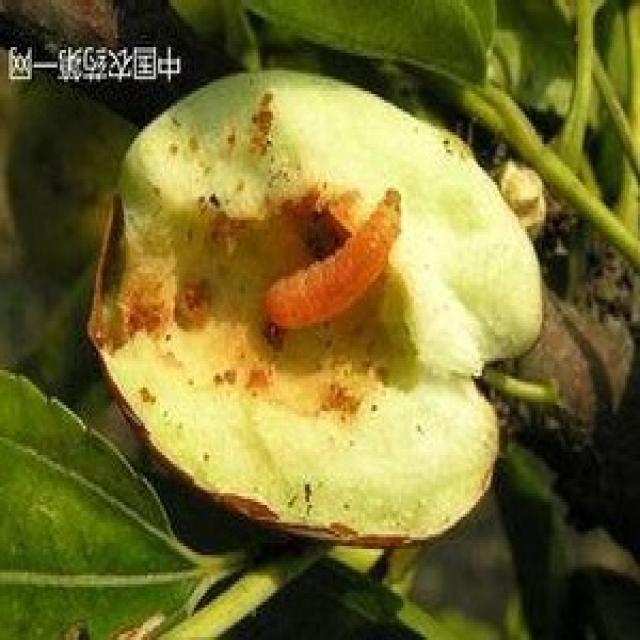peach borer: (266, 186, 407, 339)
